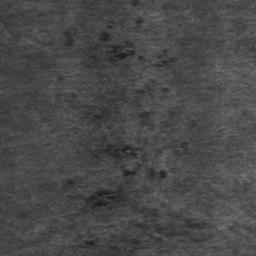Rolled in scale: (25, 2, 219, 256), (42, 23, 85, 47), (226, 5, 256, 33), (31, 227, 54, 244), (229, 221, 253, 234), (76, 0, 96, 13), (199, 15, 219, 28), (4, 3, 14, 25), (249, 43, 256, 55), (38, 13, 47, 20)
